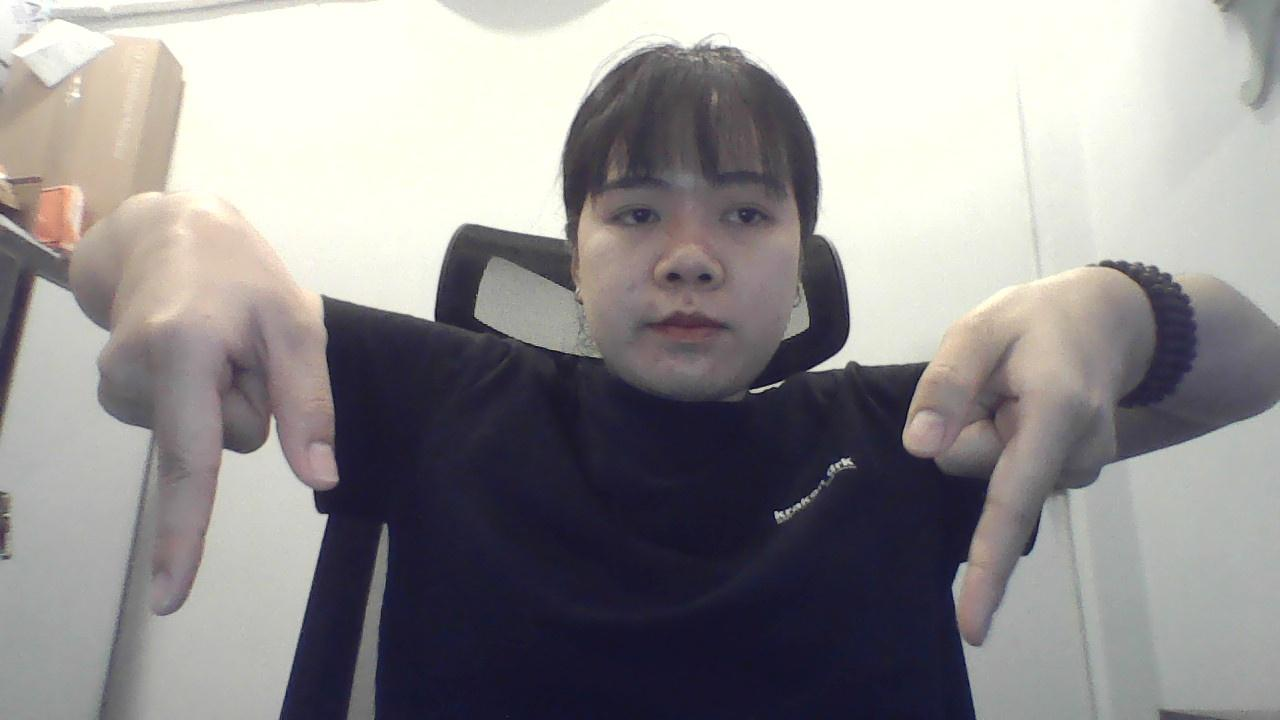Q: (102, 218, 341, 636), (889, 244, 1126, 658)
